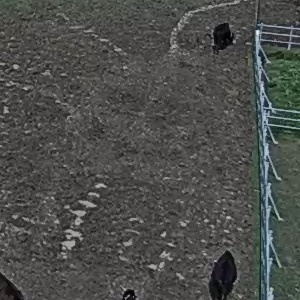cow: (191, 246, 256, 300), (205, 17, 237, 60)
